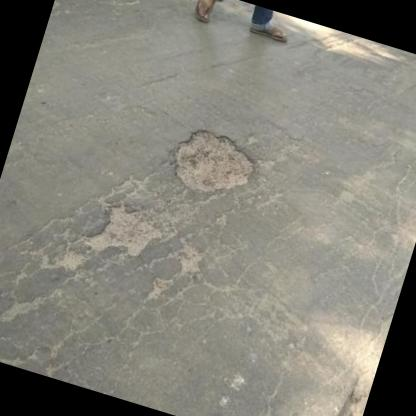pothole: (162, 119, 262, 206), (77, 194, 167, 266)
